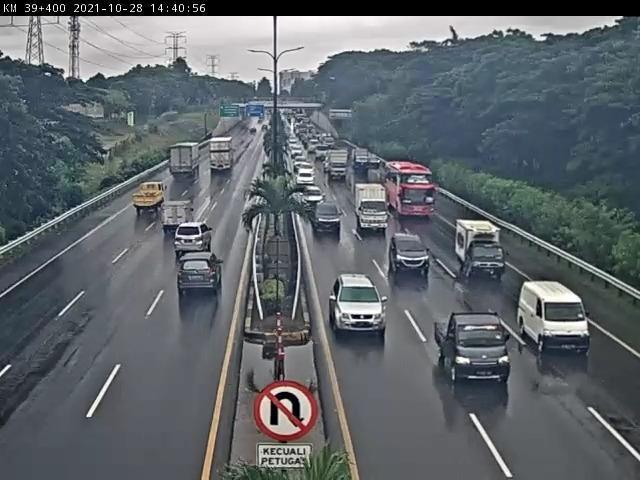bus: (384, 161, 435, 218)
car: (434, 310, 514, 385), (518, 281, 590, 355), (329, 274, 387, 336), (177, 253, 223, 297), (390, 233, 433, 275), (172, 222, 215, 257), (311, 201, 343, 237), (300, 185, 327, 210)
truck: (456, 219, 506, 277), (355, 184, 392, 235), (134, 181, 169, 215), (163, 198, 196, 230)
